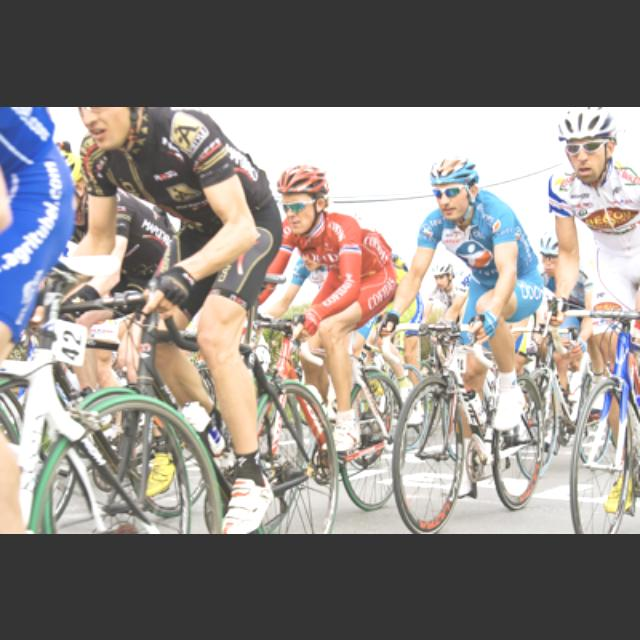With Helmet: (556, 107, 622, 181), (274, 162, 330, 232), (424, 153, 478, 220)
